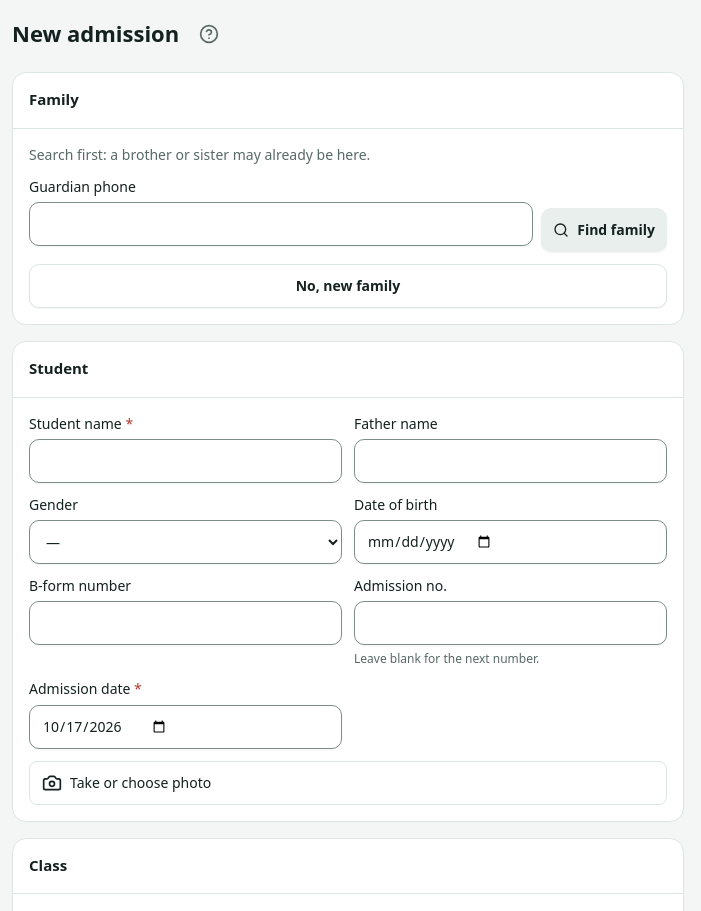
Test: admission form › normalises the guardian phone and rejects a non-Pakistani one
The image size is (701, 911).
Type "0300-1234567" into the field labelled "Guardian phone" at (281,224), box x1=29 y1=202 x2=533 y2=246
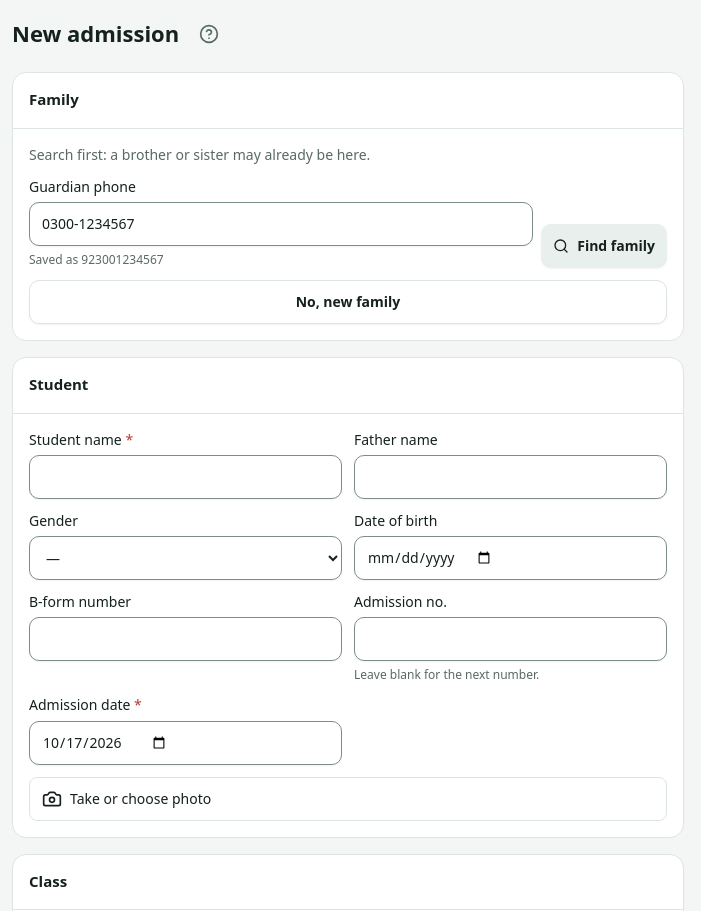
Expected: the text "Saved as 923001234567" is shown, x1=29 y1=251 x2=164 y2=268
Replace the text in the field labelled "Guardian phone" with "12345" at (281,224), box x1=29 y1=202 x2=533 y2=246
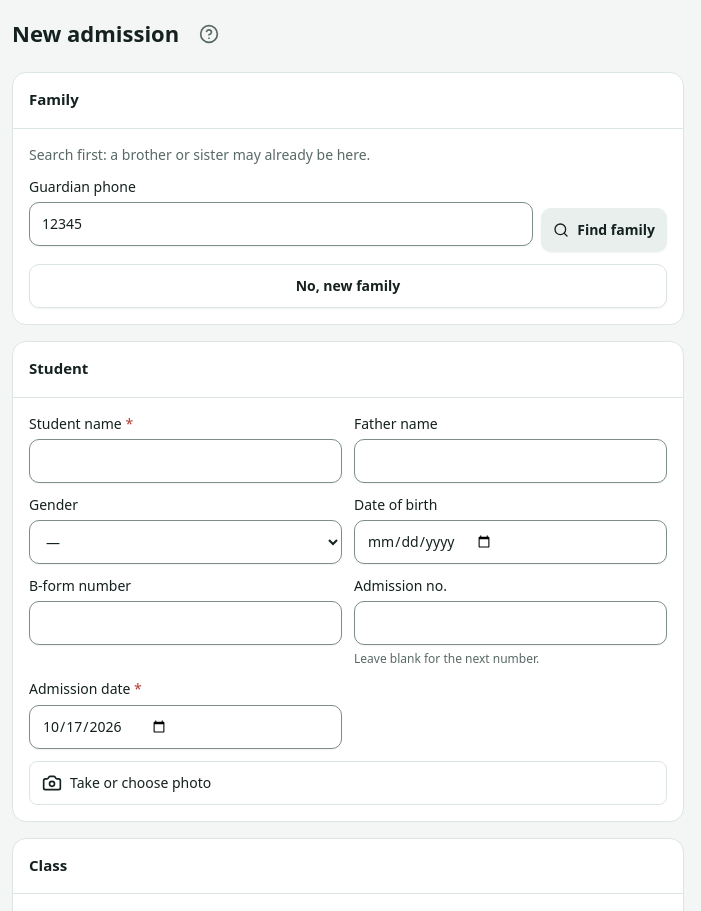
Click the button "Find family" at (604,230), box x1=541 y1=208 x2=667 y2=252
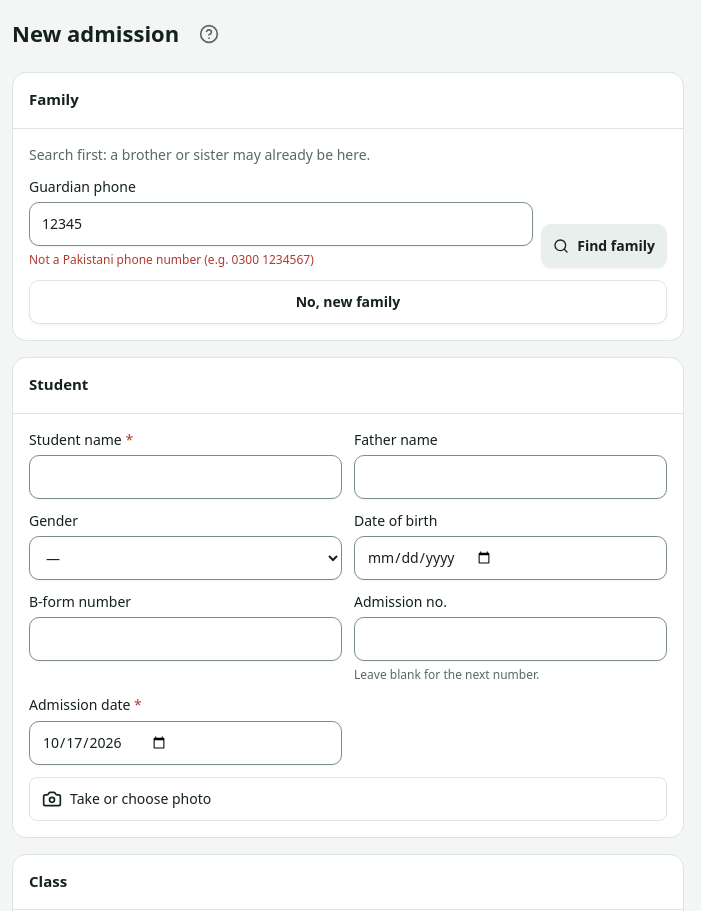
Expected: the text "Not a Pakistani phone number (e.g. 0300 1234567)" is shown, x1=29 y1=251 x2=314 y2=268
